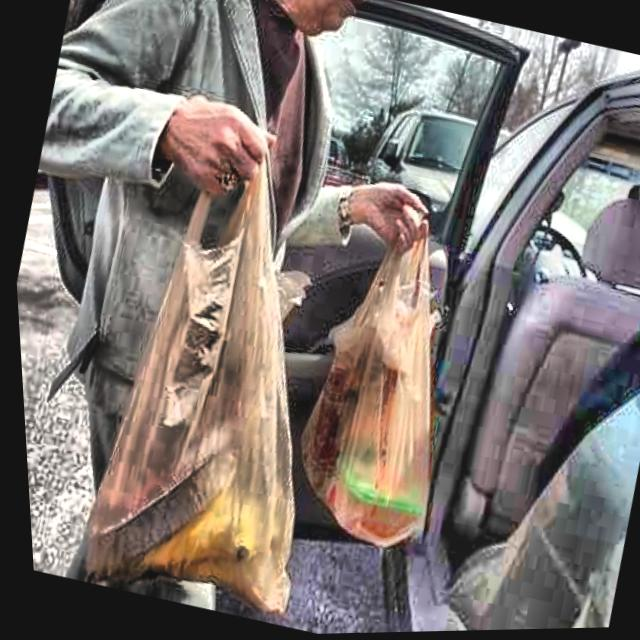Plastic: (46, 133, 394, 633), (262, 195, 508, 576)
